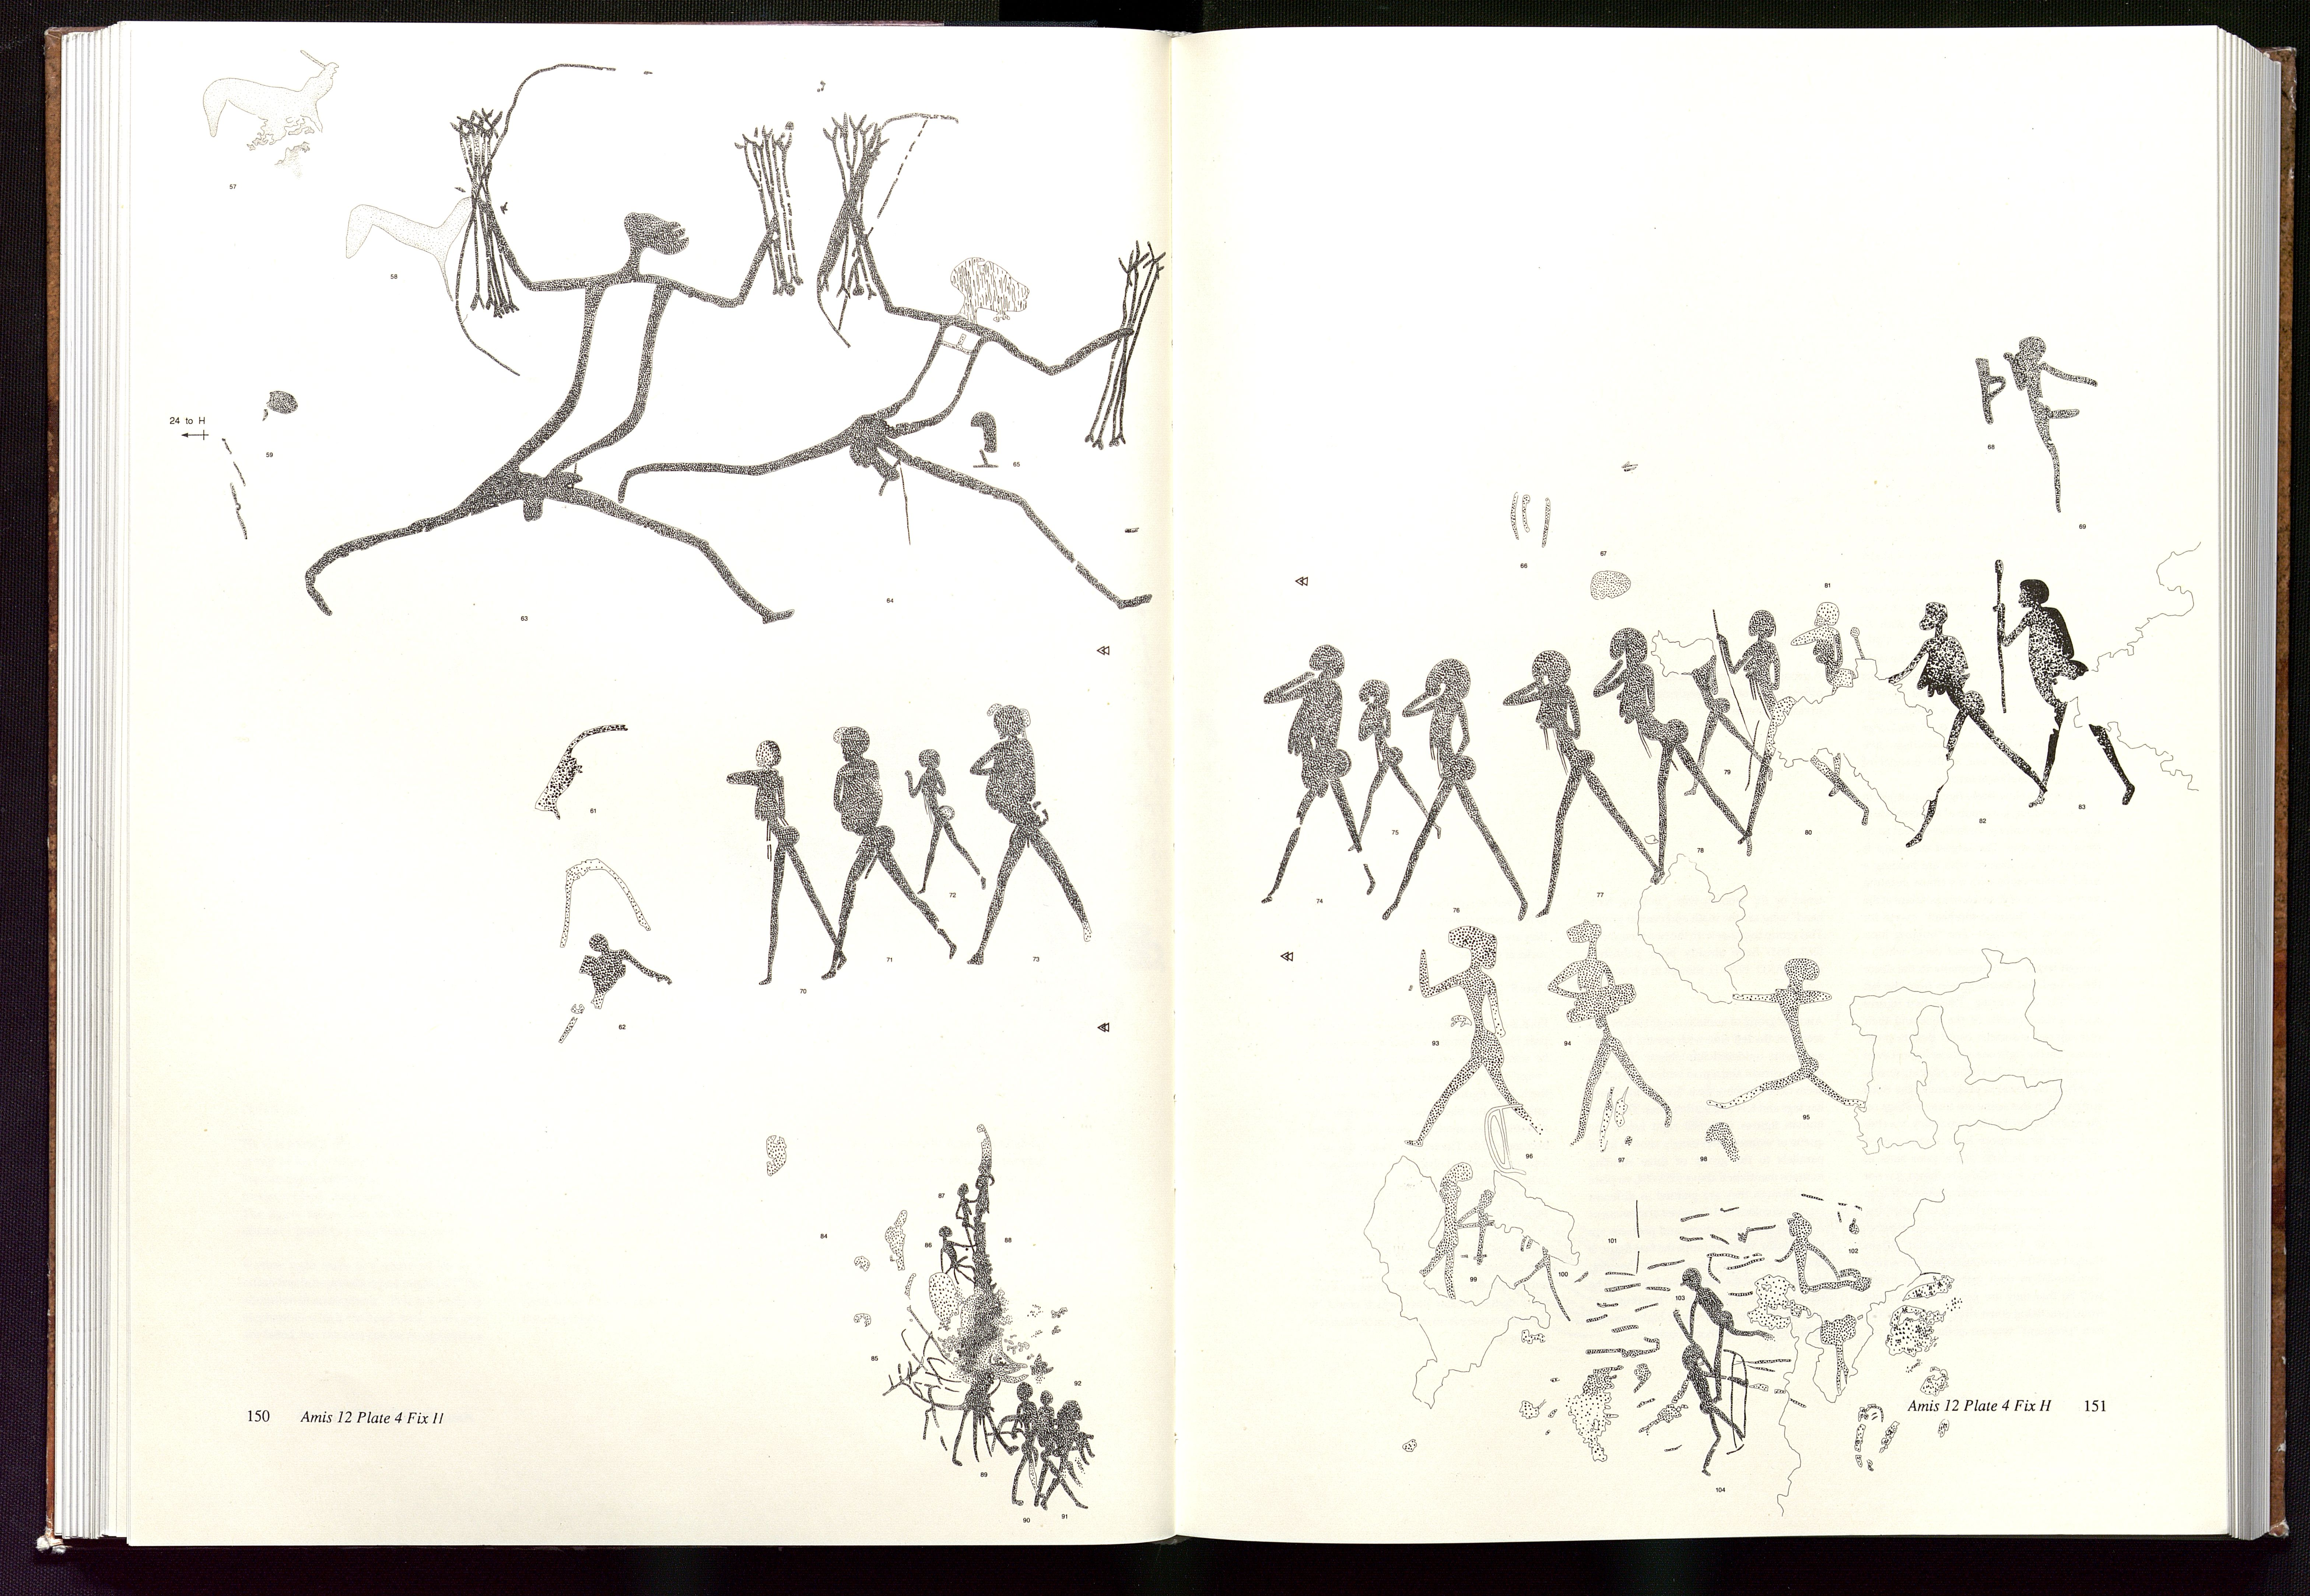human: (621, 161, 1161, 617), (297, 168, 807, 635), (1500, 642, 1669, 912), (1593, 622, 1755, 895), (1878, 600, 2055, 850), (1701, 607, 1878, 853), (812, 703, 960, 993), (1988, 573, 2143, 824), (1394, 659, 1536, 929), (1254, 635, 1389, 912), (1402, 924, 1551, 1160), (967, 698, 1100, 964), (721, 730, 851, 988), (1544, 915, 1682, 1155), (1701, 954, 1866, 1128), (1679, 622, 1785, 816), (2006, 327, 2106, 519), (1347, 674, 1446, 868), (898, 745, 996, 915), (1630, 1344, 1753, 1482), (1667, 1256, 1772, 1391), (1001, 1371, 1087, 1513)
